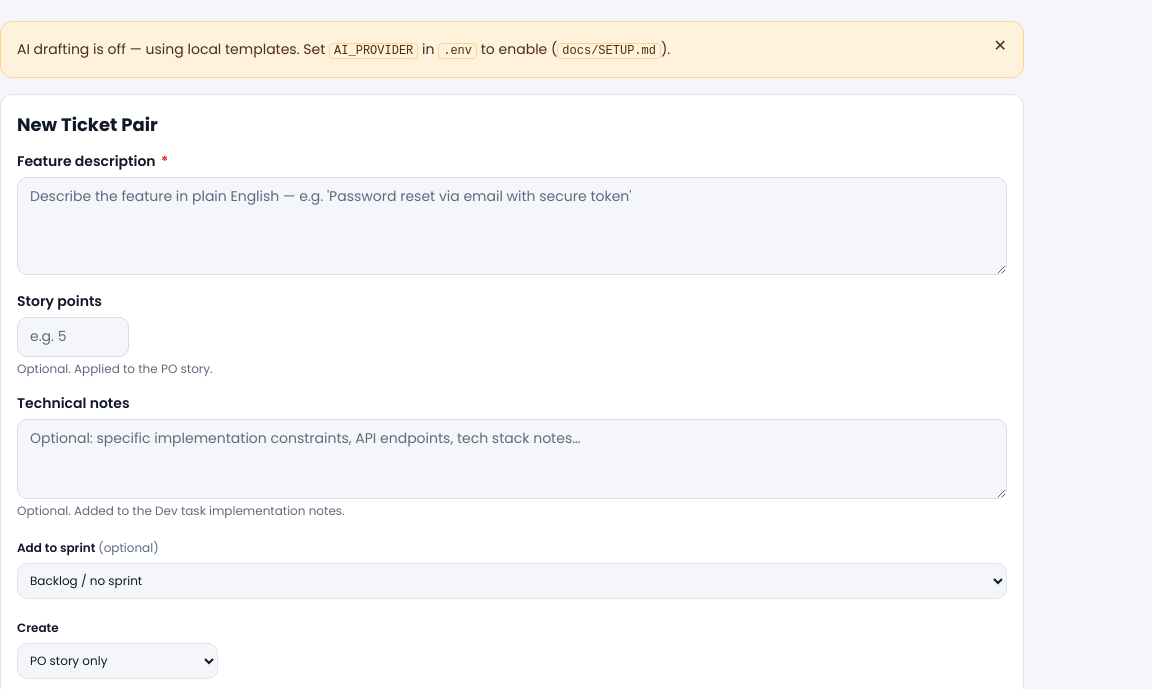
Test: TicketGen › allows going Back from preview to form
Type "Feature X" into the text box labelled "Feature description *".
click(512, 226); type("Feature X")  # box [17,177,1007,275]
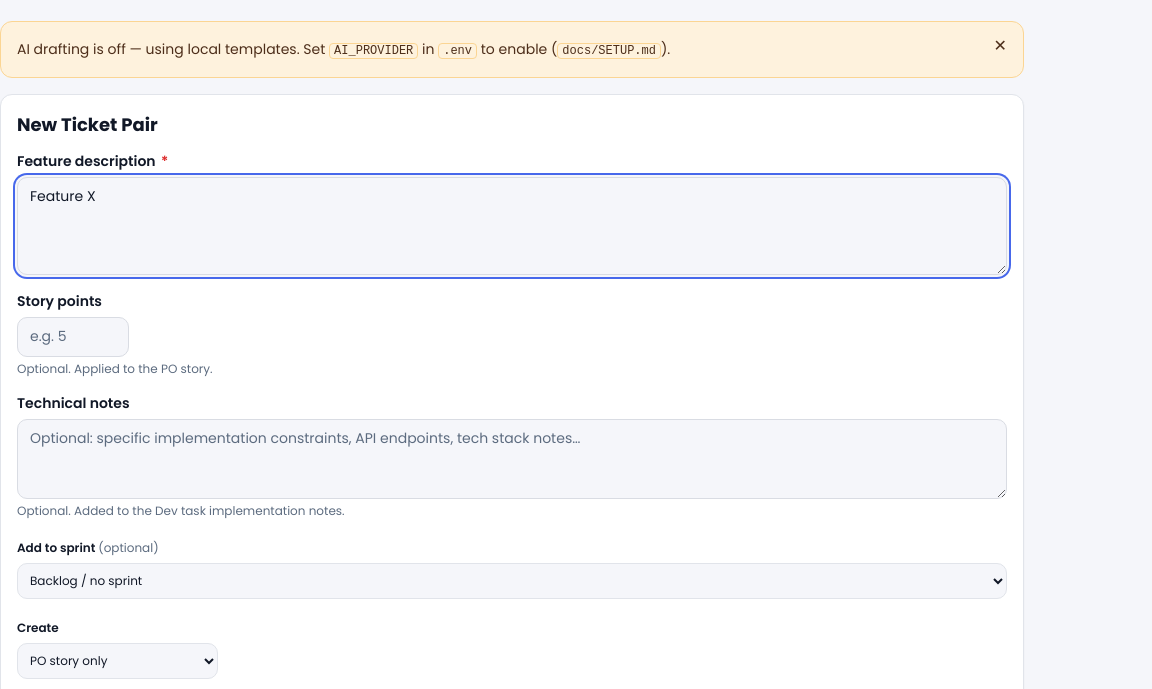
Select "PO + linked Dev task" in the dropdown named "what to create" at (117, 661), box [17,643,218,679]
(page scrolled)
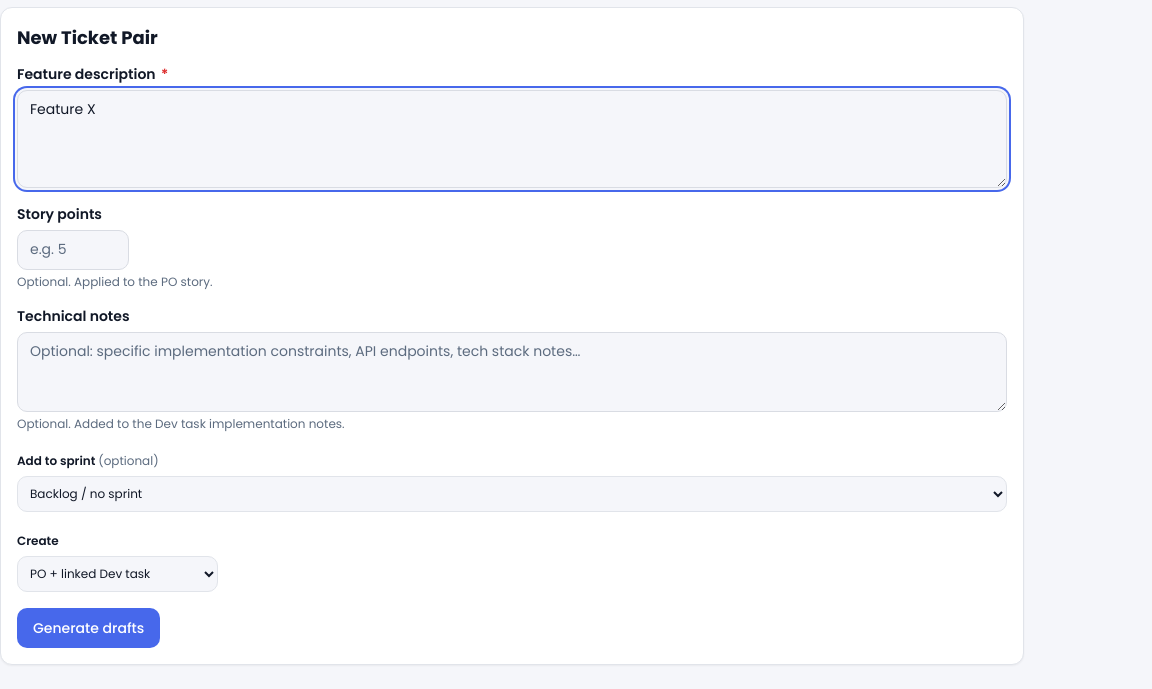
Click the button "Generate drafts".
click(89, 628)  # box [17,608,160,648]
(page scrolled)
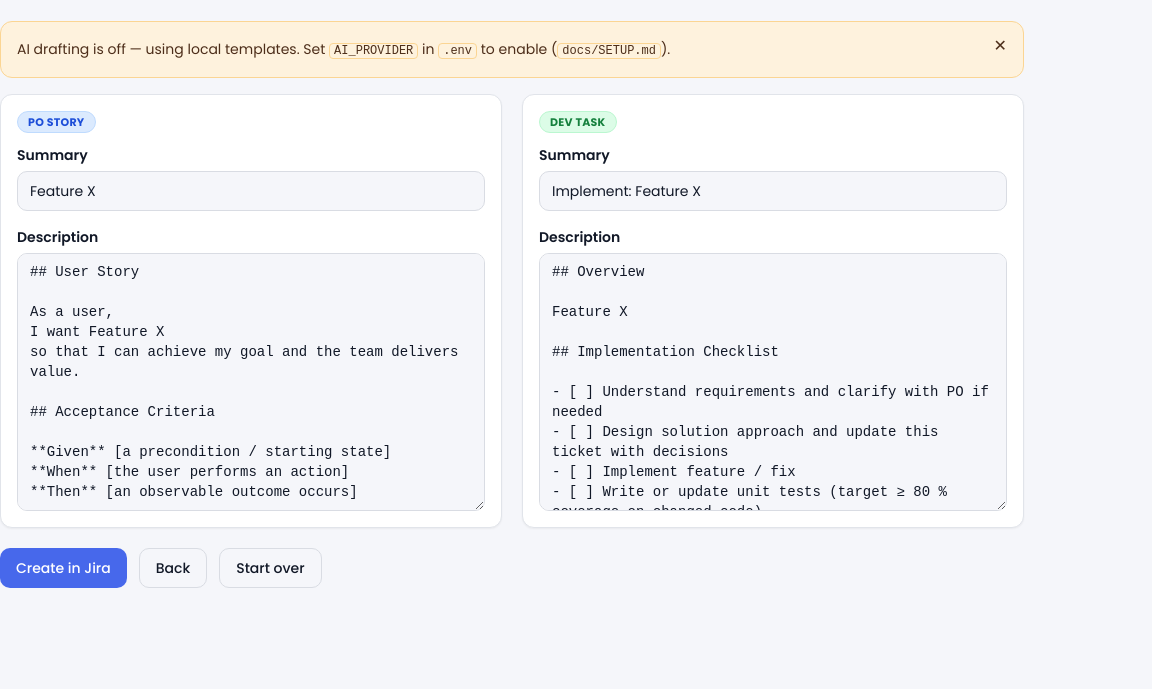
Expected: the button "Back" is shown
Click the button "Back".
click(173, 568)  # box [139,548,207,588]
(page scrolled)
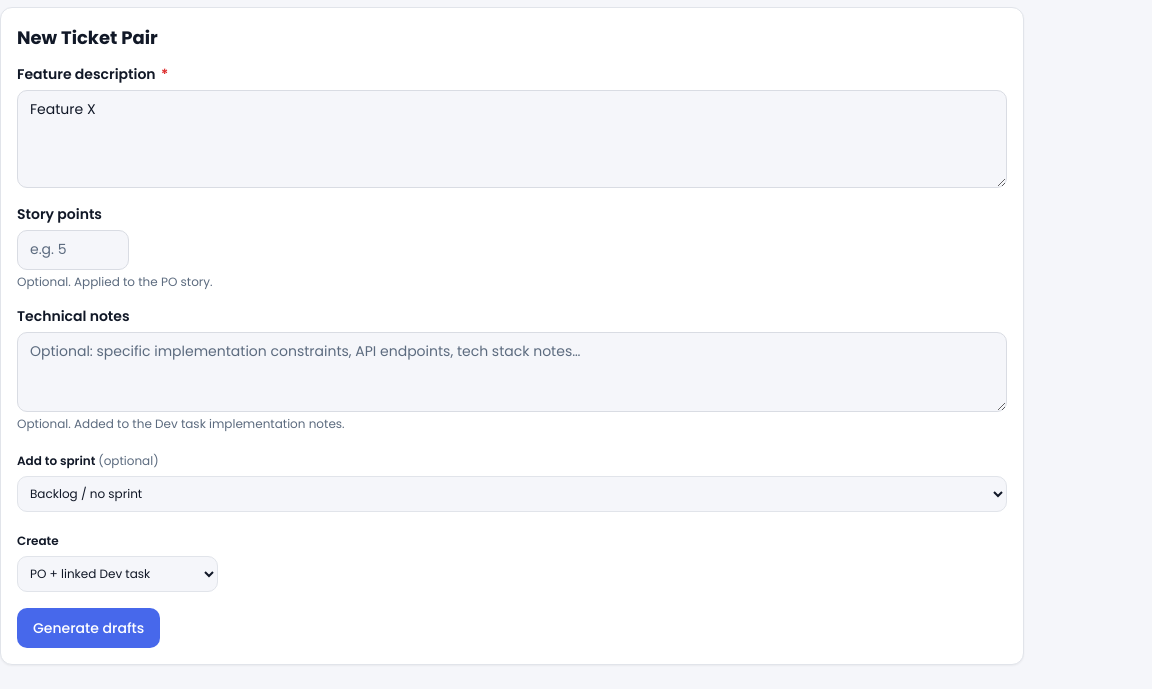
Expected: the button "Generate drafts" is shown, [17,608,160,648]
